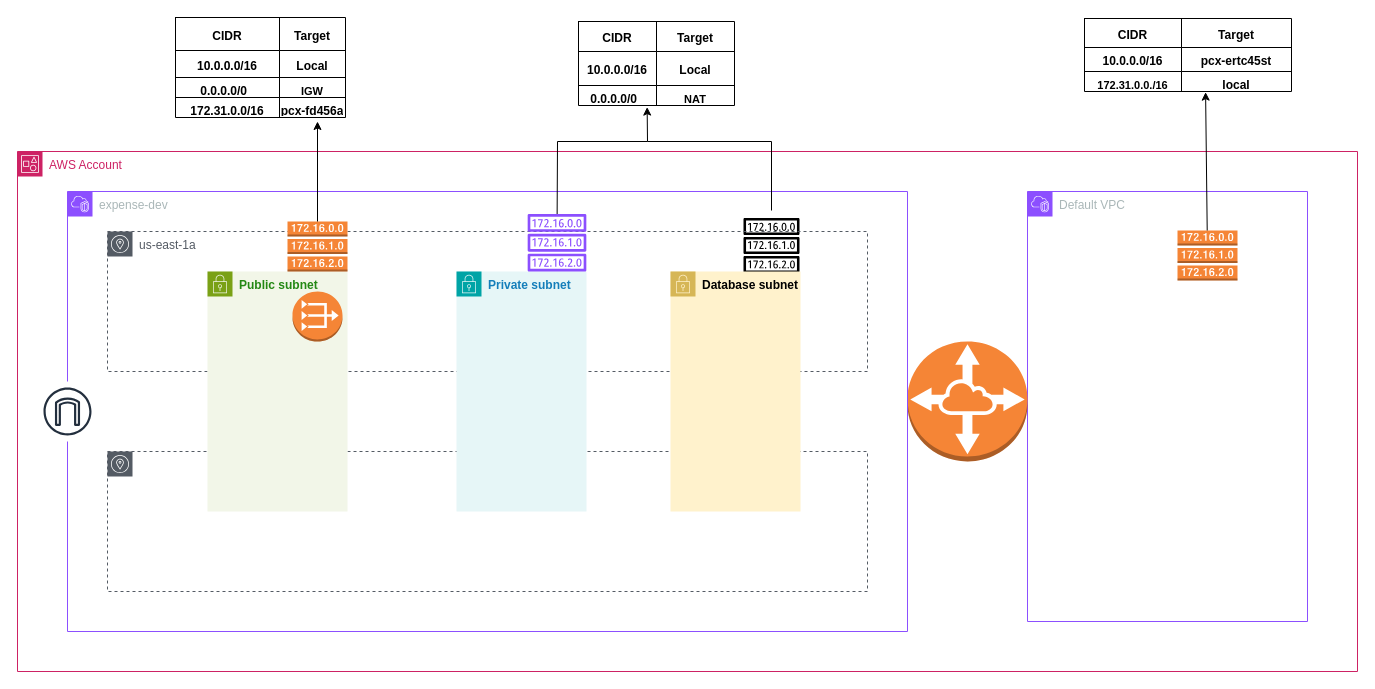
The diagram is 1375 pixels wide and 689 high, and some of its shapes have lost their labels. Here are the shapes that lost their labels. From the top down, the centre of each, then its label:
the point at 67,411: Internet gateway
the point at 487,521: us-east-1b
